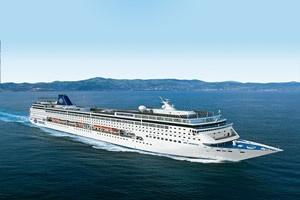youlun: (24, 89, 284, 162)
